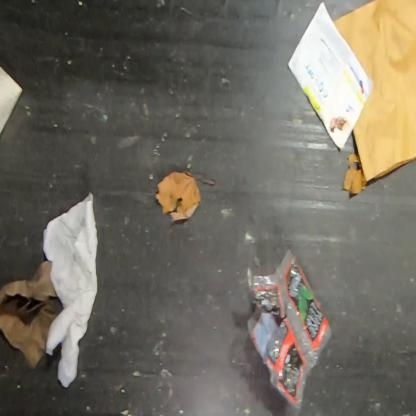soft_plastic: (244, 248, 333, 410)
